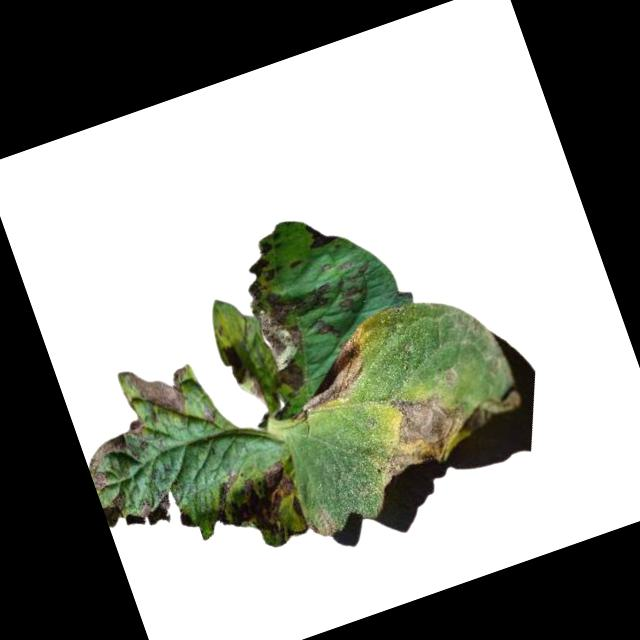Early_blight: (240, 259, 355, 393), (361, 376, 478, 482), (204, 451, 307, 550), (274, 335, 378, 423), (124, 351, 201, 434), (79, 419, 158, 490), (300, 212, 340, 252), (218, 340, 247, 385), (246, 255, 275, 282), (131, 496, 154, 519)
